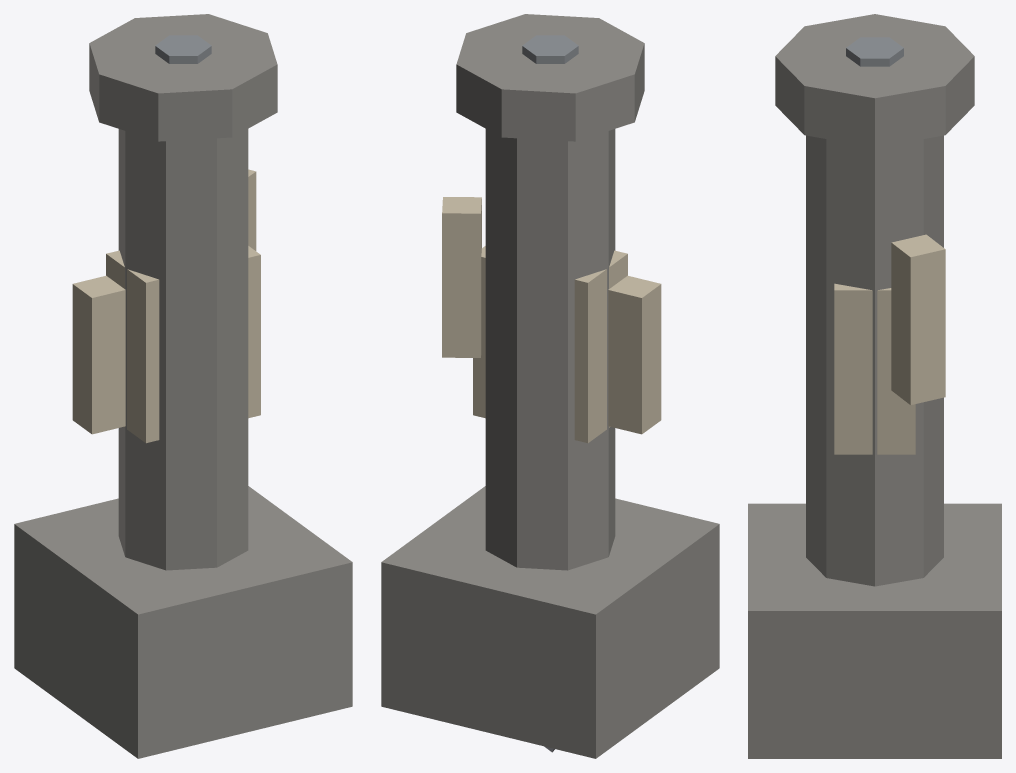
The model's file is decor_kit.glb.
The picture shows the model from 3 angles, left to right: view 1: azimuth 30°, elevation 25°; view 2: azimuth 150°, elevation 25°; view 3: azimuth 270°, elevation 25°; orthographic projection. The views are drawn at different scales.
Visible parts, largest first — view 1: statue, column, pipe; view 2: statue, column, pipe; view 3: statue, column, pipe.
Boxes of the visible parts, <box> form: statue: <box>14,169,352,758</box>; column: <box>89,14,277,570</box>; pipe: <box>155,35,211,63</box>; statue: <box>381,197,719,758</box>; column: <box>456,14,644,570</box>; pipe: <box>522,35,578,63</box>; statue: <box>748,234,1001,758</box>; column: <box>775,14,974,586</box>; pipe: <box>846,37,903,66</box>.
Size of the model in its own units: 1.4 by 4.34 by 1.4.
